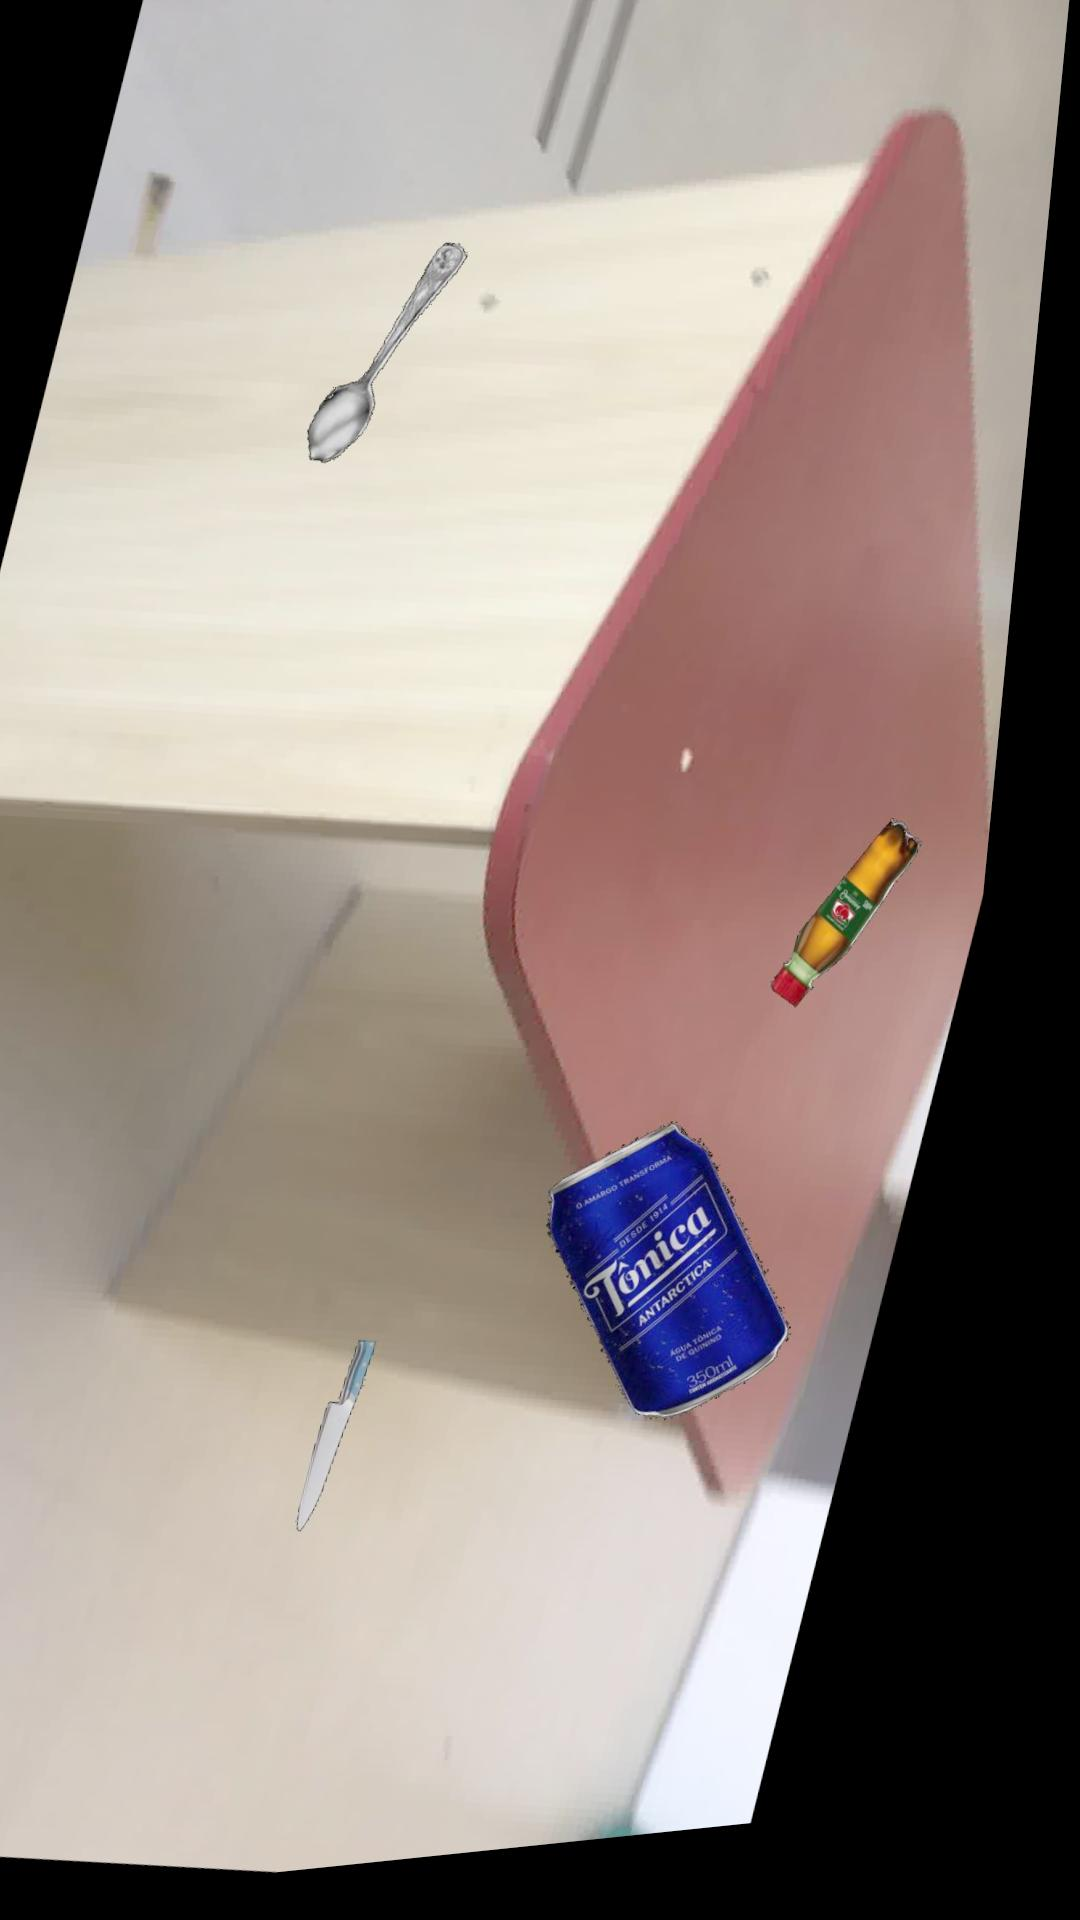guarana: (790, 840, 936, 1027)
knife: (326, 1352, 401, 1542)
spoon: (314, 253, 471, 471)
tonic: (570, 1141, 815, 1436)
